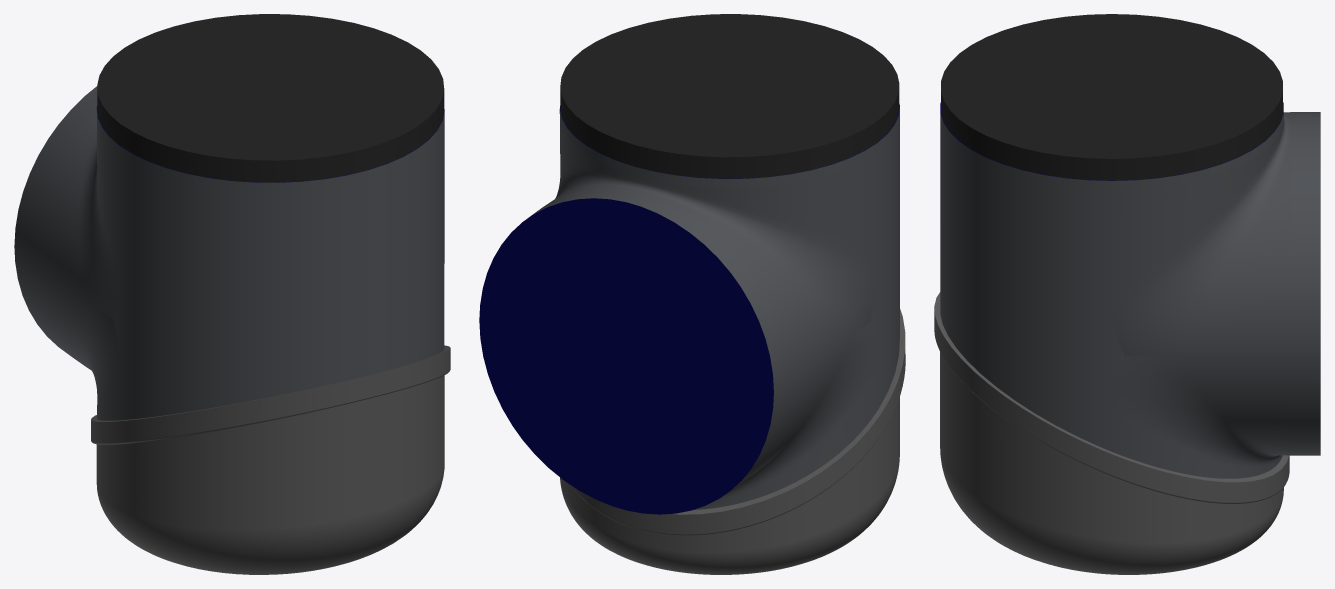
The model's file is Wrist2.dae.
3 views of the same model, side by side, from view 1: azimuth 30°, elevation 25°; view 2: azimuth 150°, elevation 25°; view 3: azimuth 270°, elevation 25° (orthographic). The views are drawn at different scales.
Parts seen in each view (by area): view 1: Actor0, Actor1; view 2: Actor0, Actor1; view 3: Actor0, Actor1.
Part boxes in pixels (<box>): Actor0: <box>14,14,444,420</box>; Actor1: <box>91,345,450,574</box>; Actor0: <box>479,14,899,514</box>; Actor1: <box>560,309,905,574</box>; Actor0: <box>940,14,1320,478</box>; Actor1: <box>934,292,1289,574</box>.
Size of the model in its own units: 0.0775 by 0.1047 by 0.0843.
